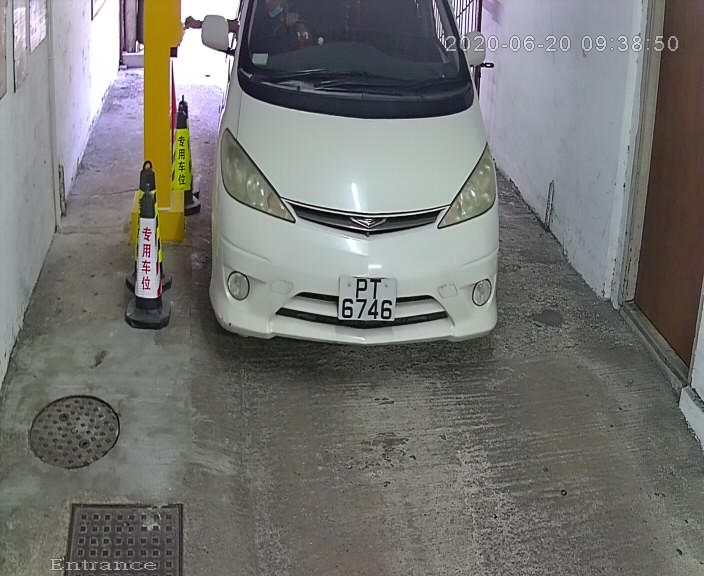privatecar: (197, 3, 521, 362)
